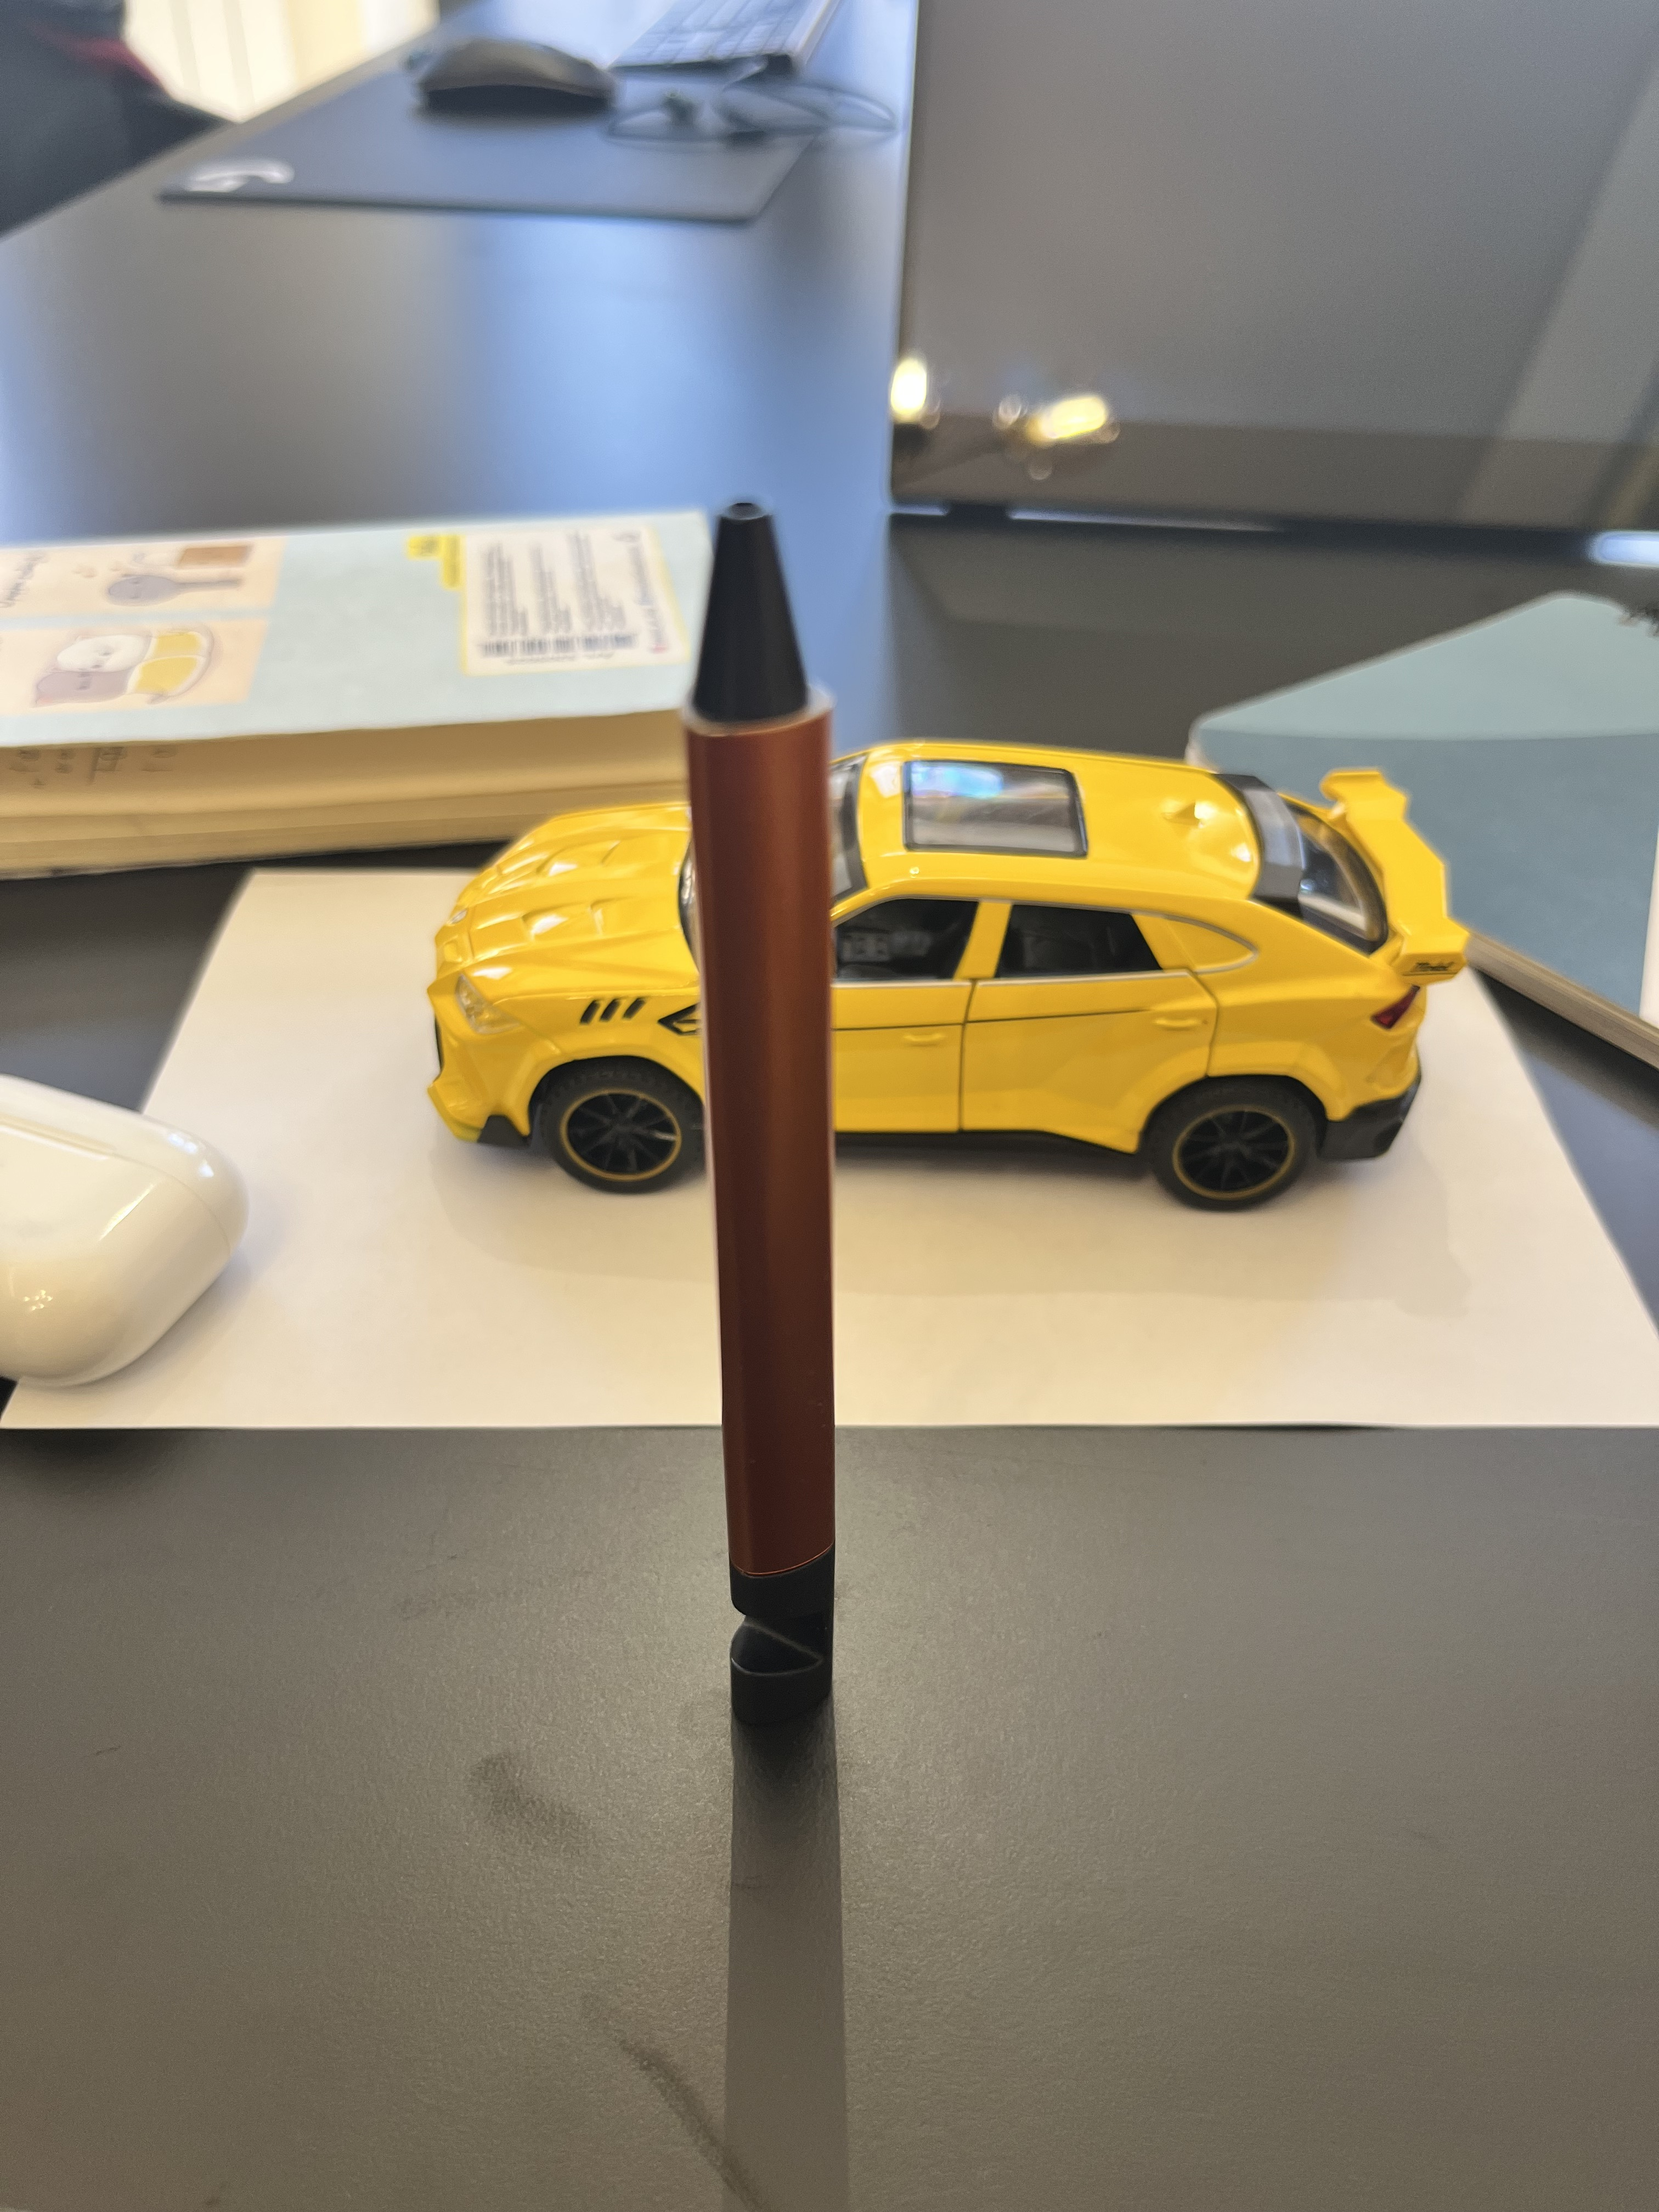lambo: (420, 737, 1471, 1212)
